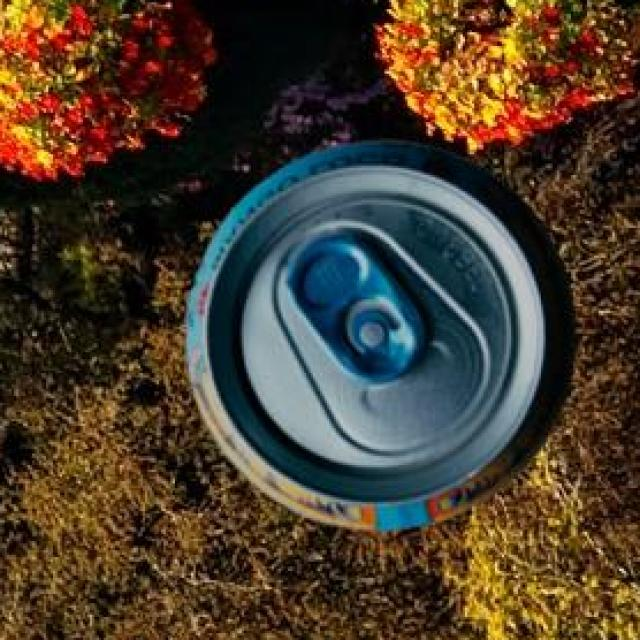logam: (183, 144, 572, 533)
